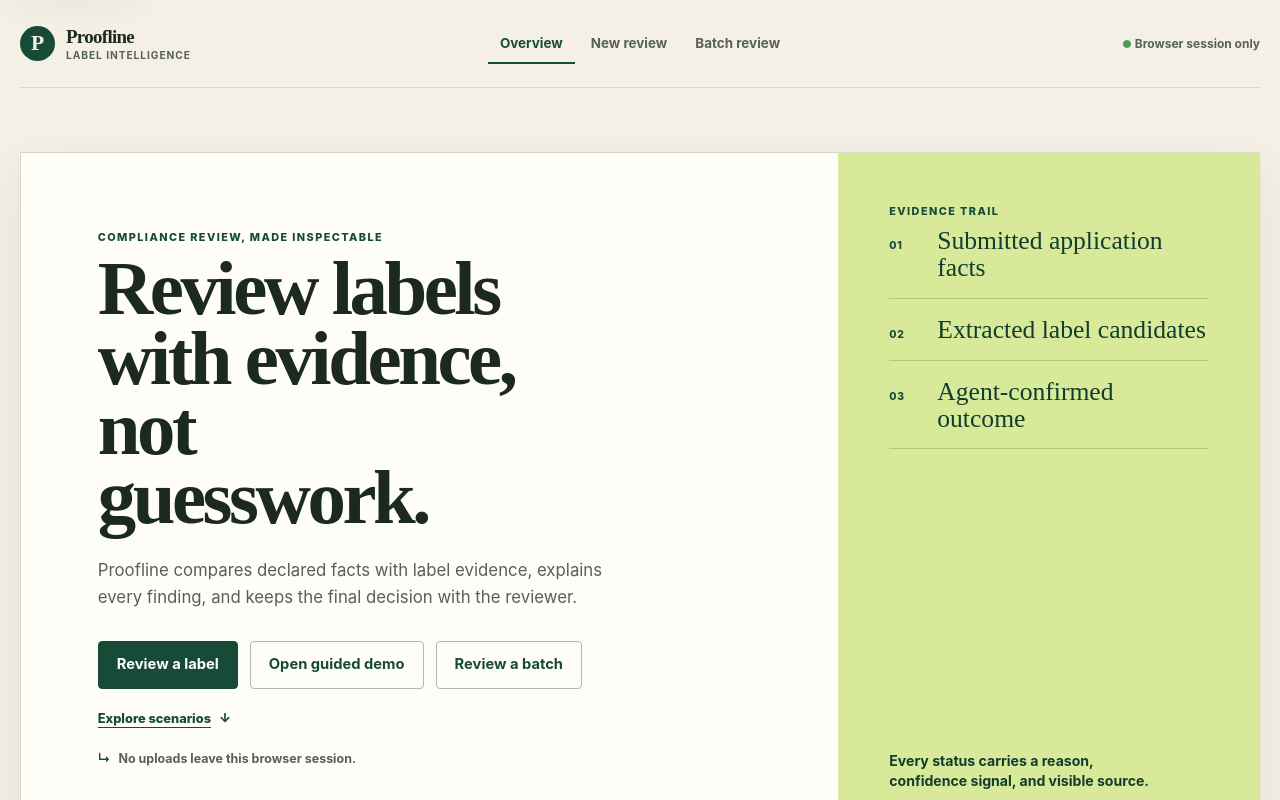
keeps an uppercase non-bold warning heading as a pending bold confirmation
Click the button "Explore scenarios".
click(164, 718)  # box [98,711,231,726]
(page scrolled)
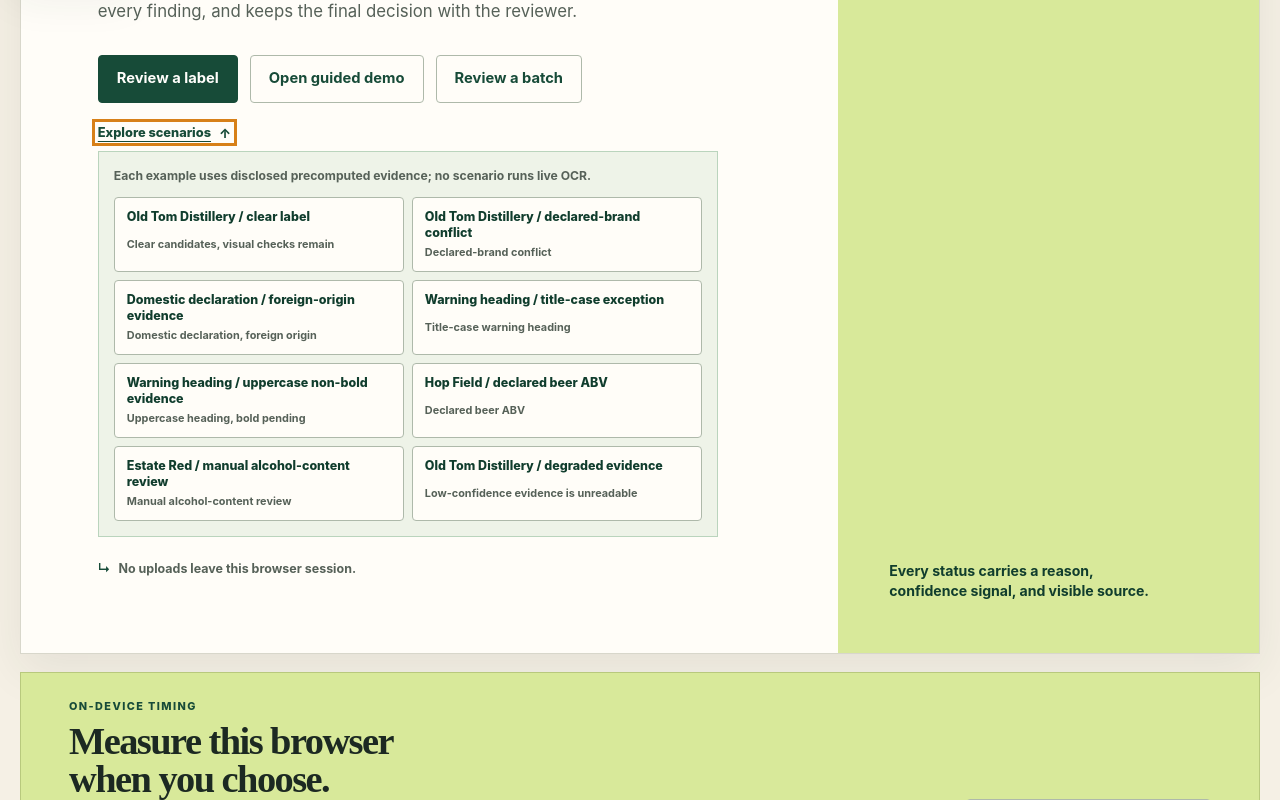
Click the button "Uppercase heading, bold pending".
click(247, 382)  # box [114,363,404,438]
(page scrolled)
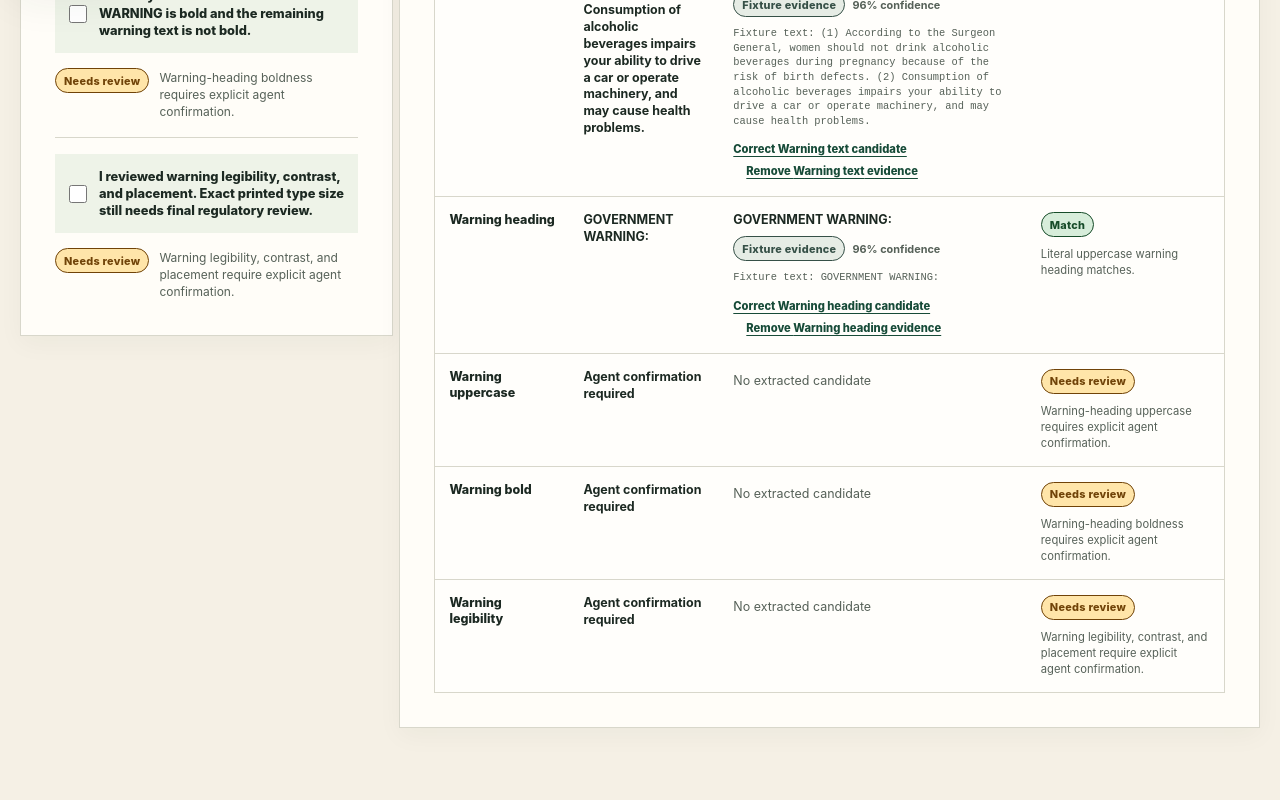
Check: the checkbox labelled "GOVERNMENT WARNING is bold" is not checked, box [69,5,87,23]
Check: the row that starts with "Warning bold" shows "Needs review", box [1050,487,1126,501]
